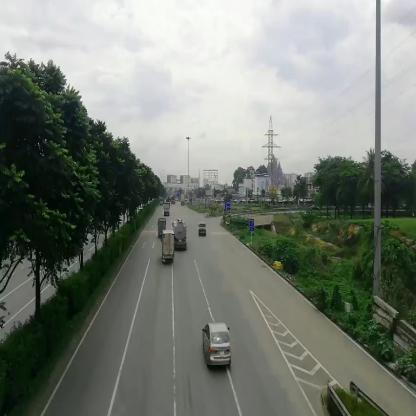car: (205, 319, 231, 367), (198, 223, 208, 239)
truck: (175, 221, 188, 253), (163, 234, 174, 265), (157, 219, 167, 240), (164, 203, 171, 216)
